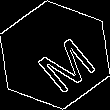M_NW: (19, 21, 91, 89)
